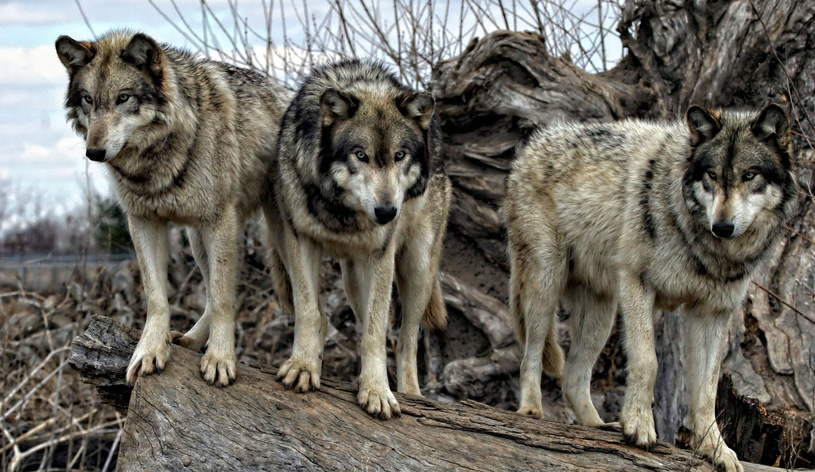wolf: (513, 88, 785, 450), (60, 31, 331, 389), (276, 66, 458, 412)
